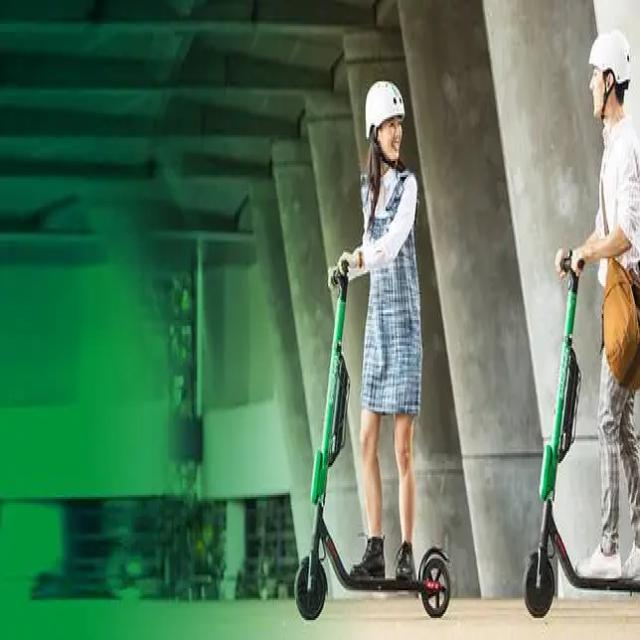helmet: (275, 44, 464, 626), (502, 10, 640, 640)
